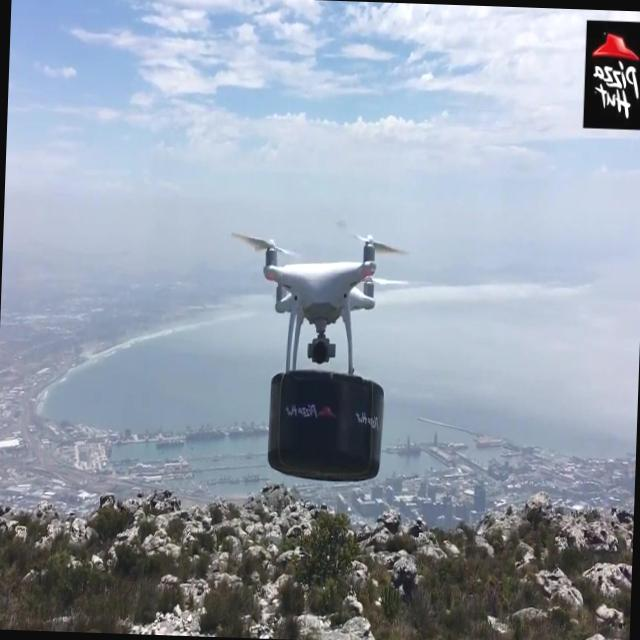drone: (230, 228, 404, 484)
